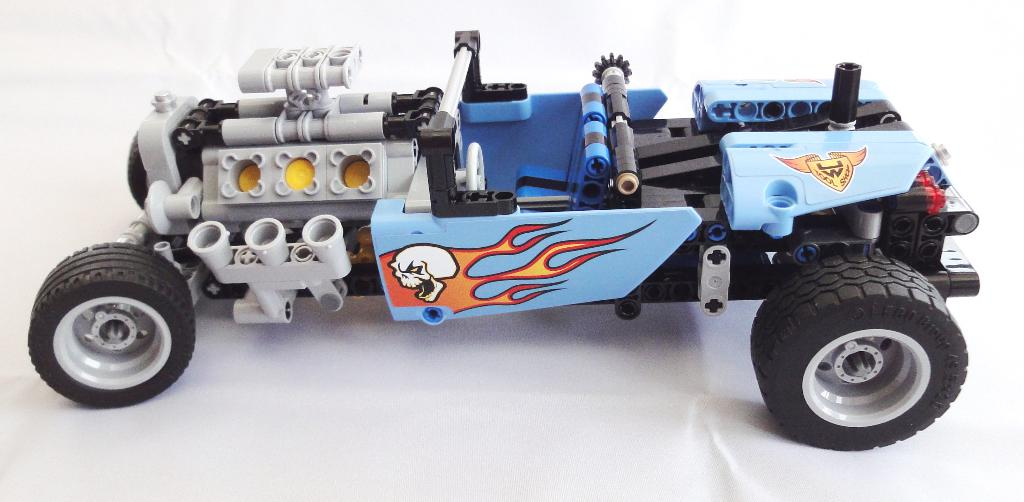Wheel: (747, 255, 974, 453), (27, 241, 197, 409), (124, 135, 150, 218), (463, 143, 492, 192)
